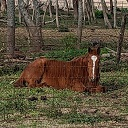caballo: (11, 46, 104, 96)
